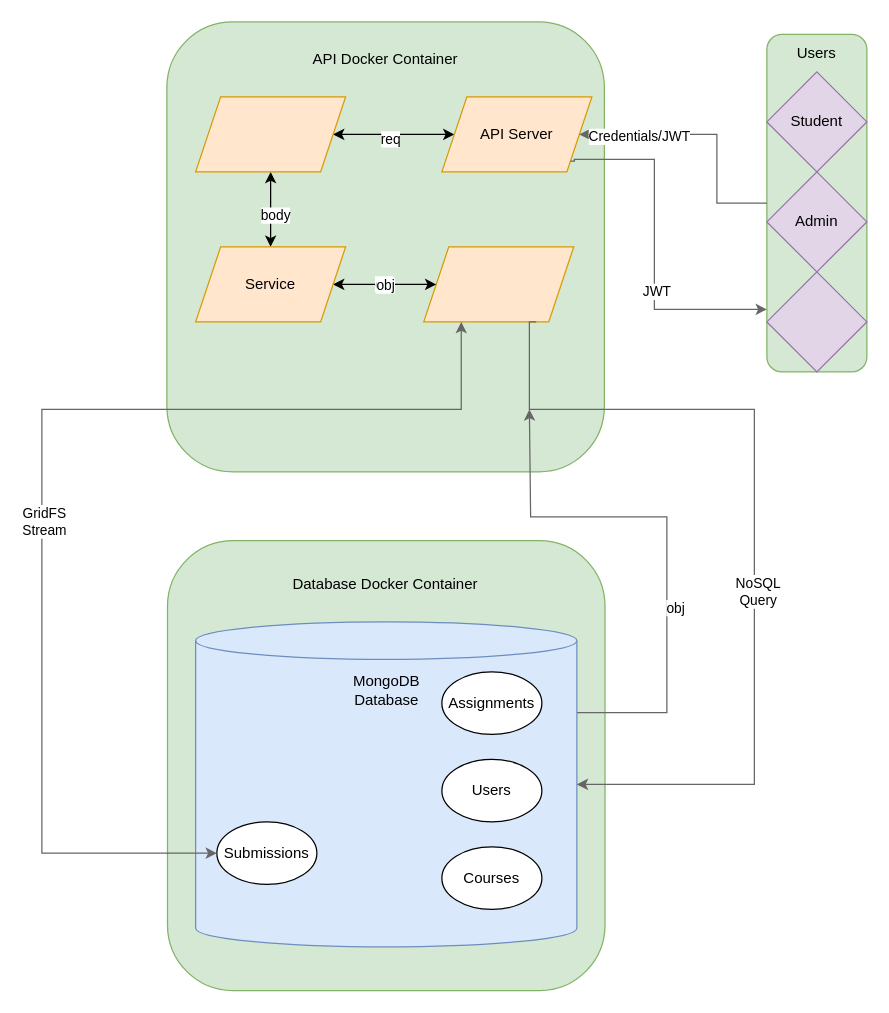
Image size: 889x1013. Some labels were removed from this diagram. Here are the shapes that lost their labels. From the top down, the box of each, then its label:
(194, 96, 346, 172): Controller
(422, 246, 574, 322): Mongoose Model Interface
(766, 271, 867, 372): Instructor
